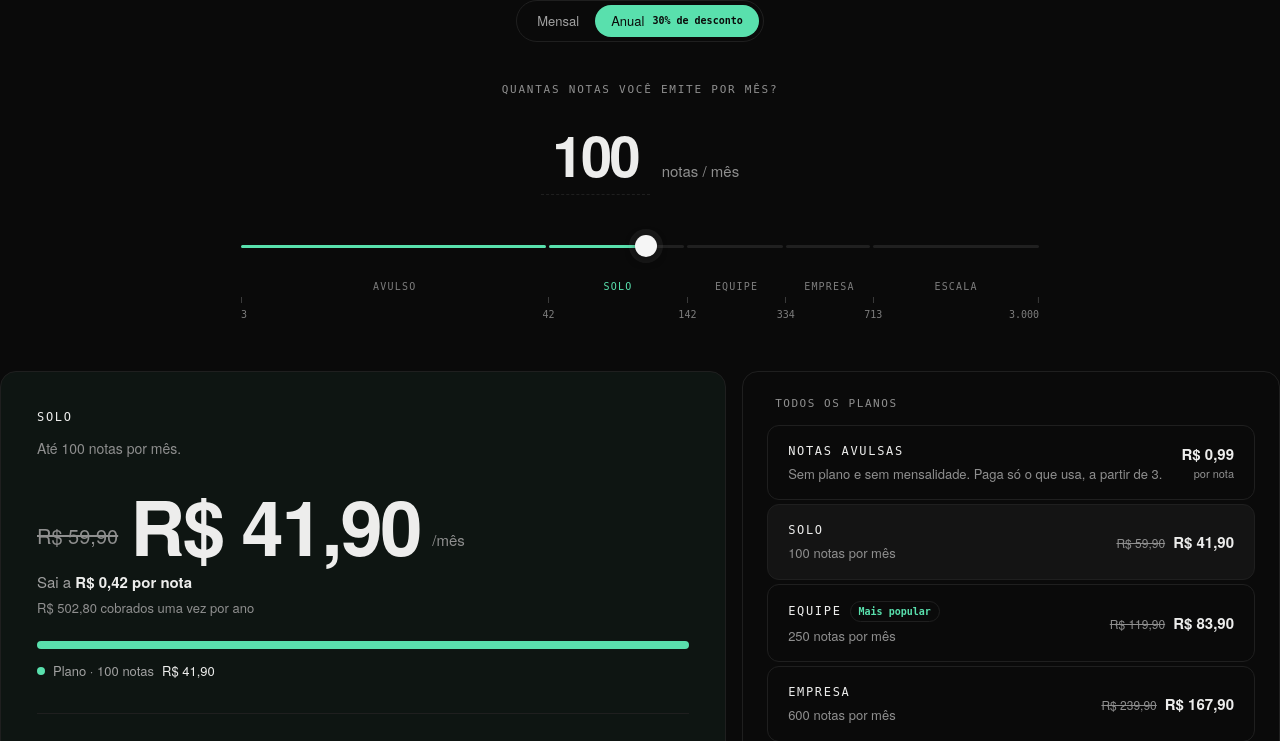
Test: plan picker › annual: the year's total shows on the featured plan
The width and height of the screenshot is (1280, 741).
Replace the text in the field named "Quantas notas" with "250" at (595, 154), box left=541, top=114, right=650, bottom=195
(page scrolled)
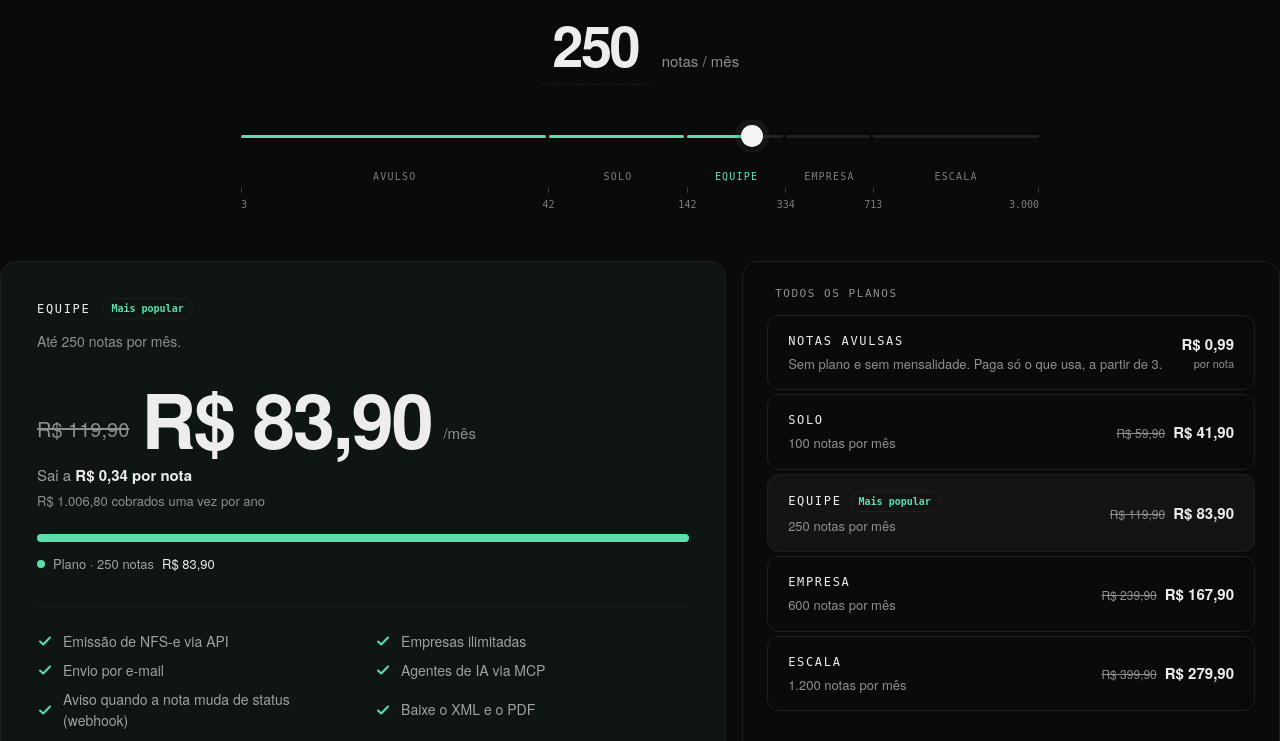
Now the element with test id "featured-plan" shows "EQUIPE", box left=37, top=302, right=90, bottom=316
Now the text "R$ 119,90" in the row of "/mês" is shown, box left=37, top=414, right=129, bottom=443
Now the element with test id "featured-plan" shows "R$ 83,90", box left=141, top=363, right=432, bottom=472
